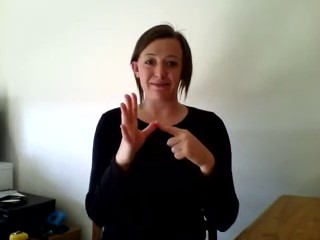A: (117, 89, 206, 168)
